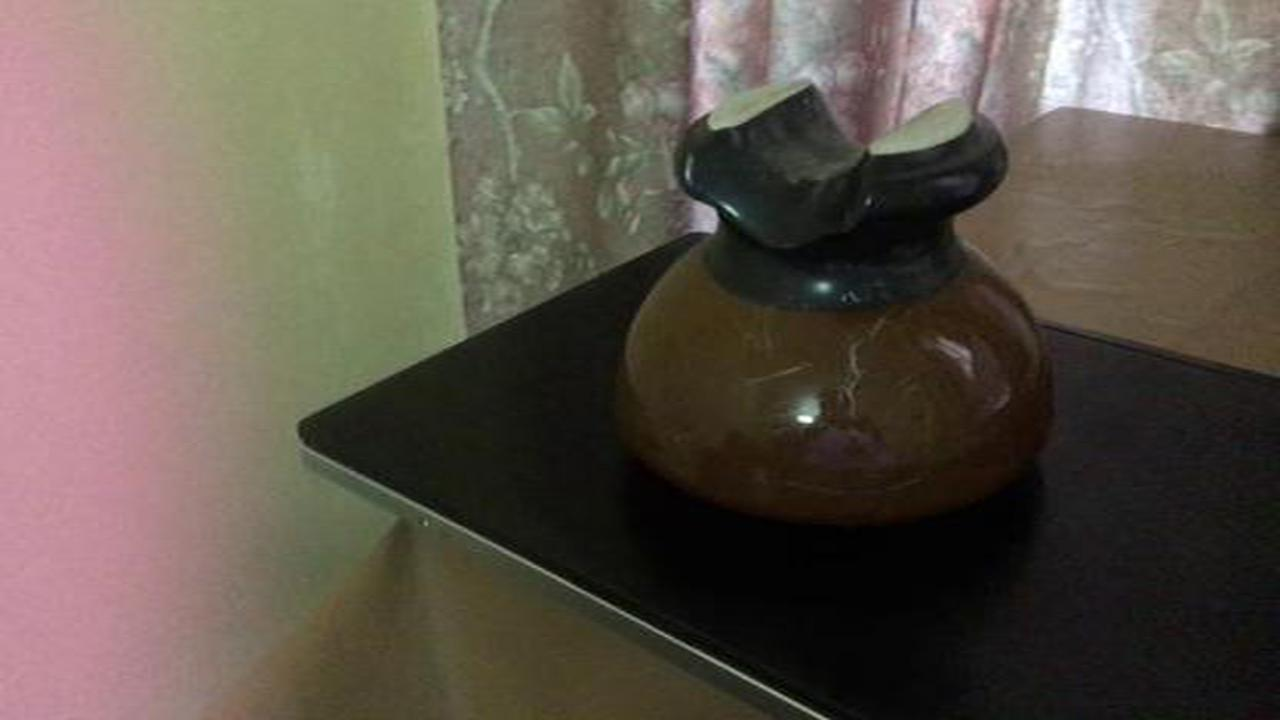insulator_pin: (591, 73, 1081, 560)
